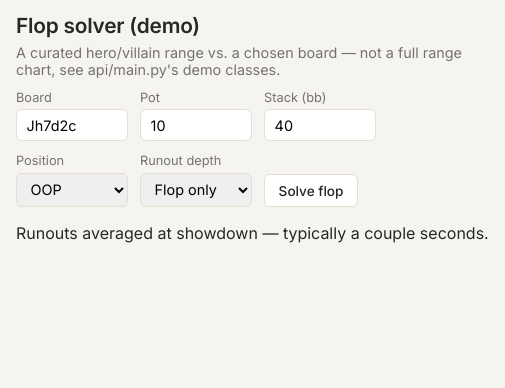
Test case: FlopSolver › shows depth-appropriate button and loading copy
Select "Flop + turn" in the dropdown labelled "Runout depth": coordinates (196, 190) 140,173 -> 252,207
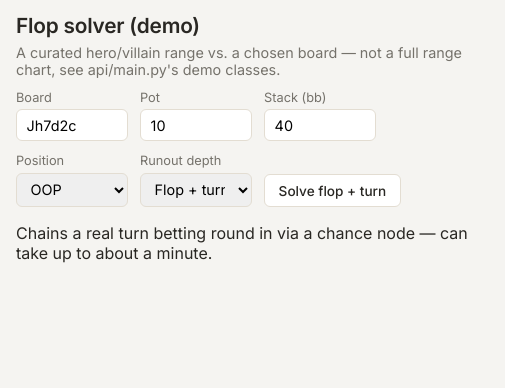
Now the button "Solve flop + turn" is shown
Click the button "Solve flop + turn": coordinates (332, 191) 264,174 -> 401,207
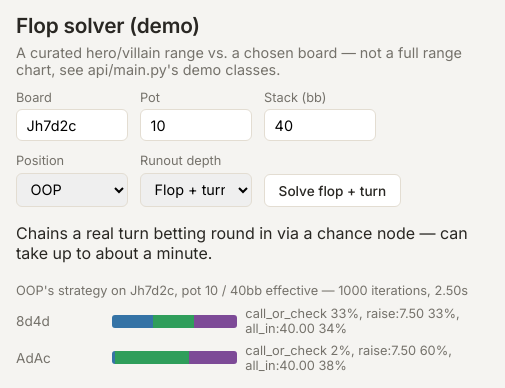
Now the text "AdAc" is shown, box 16,350 -> 51,366
